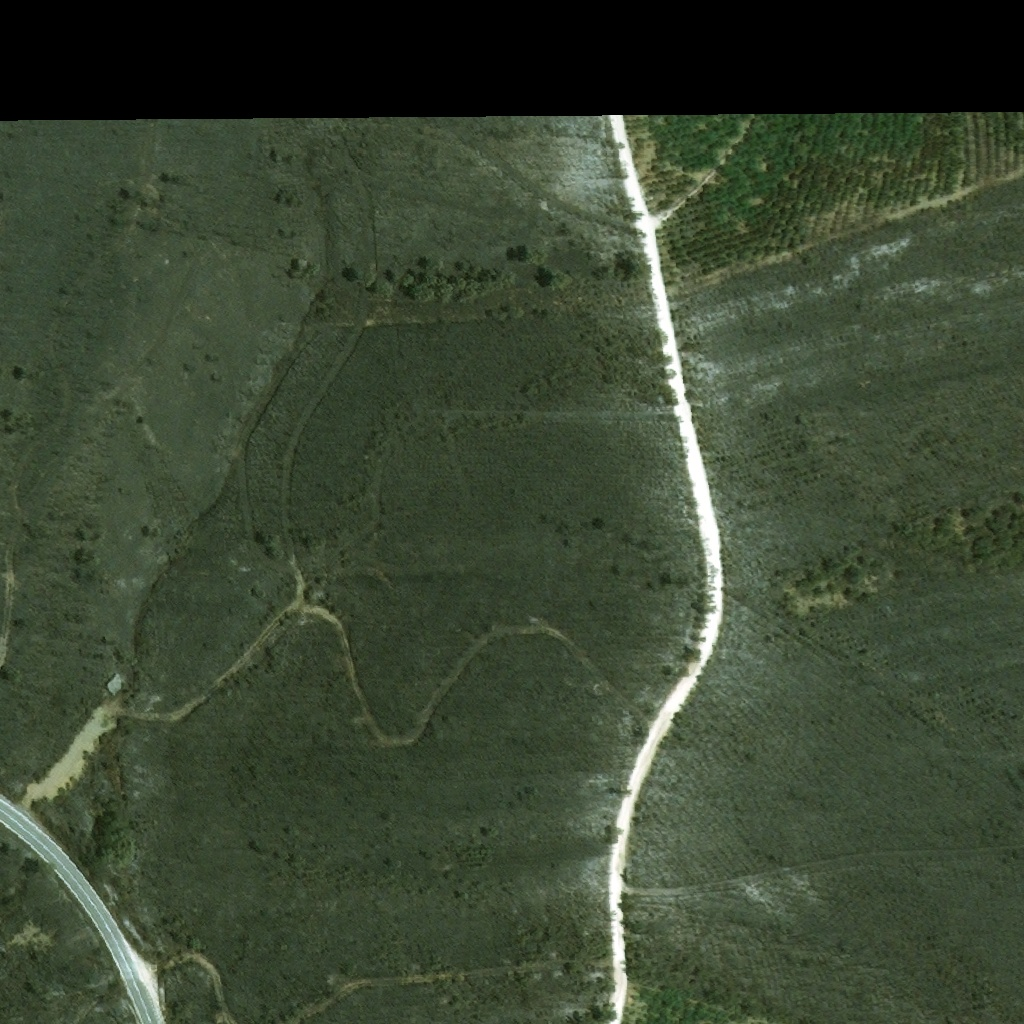3 destroyed: (104, 675, 123, 696)
